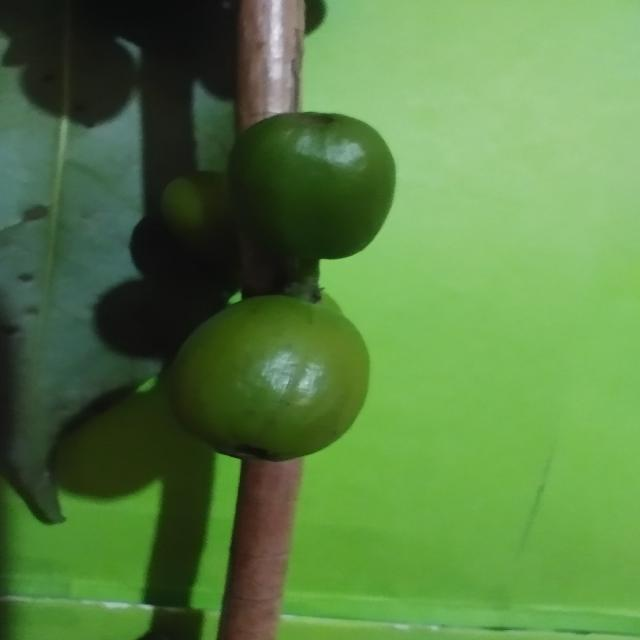Sano: (159, 284, 371, 465), (228, 112, 396, 261)
